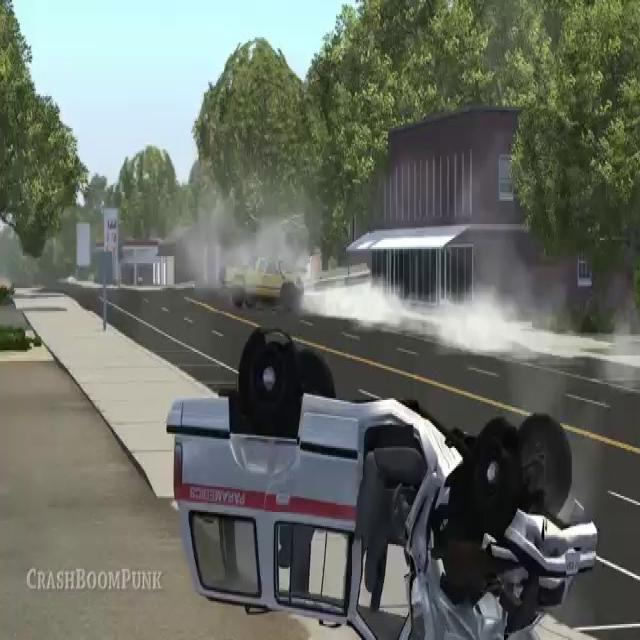severe: (161, 325, 604, 640)
